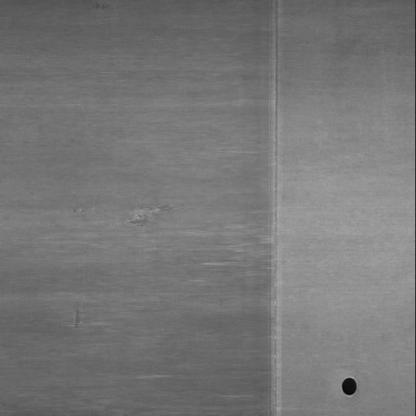punching_hole: (334, 371, 365, 401)
rolled_pit: (66, 298, 91, 332)
welding_line: (263, 1, 292, 414)
